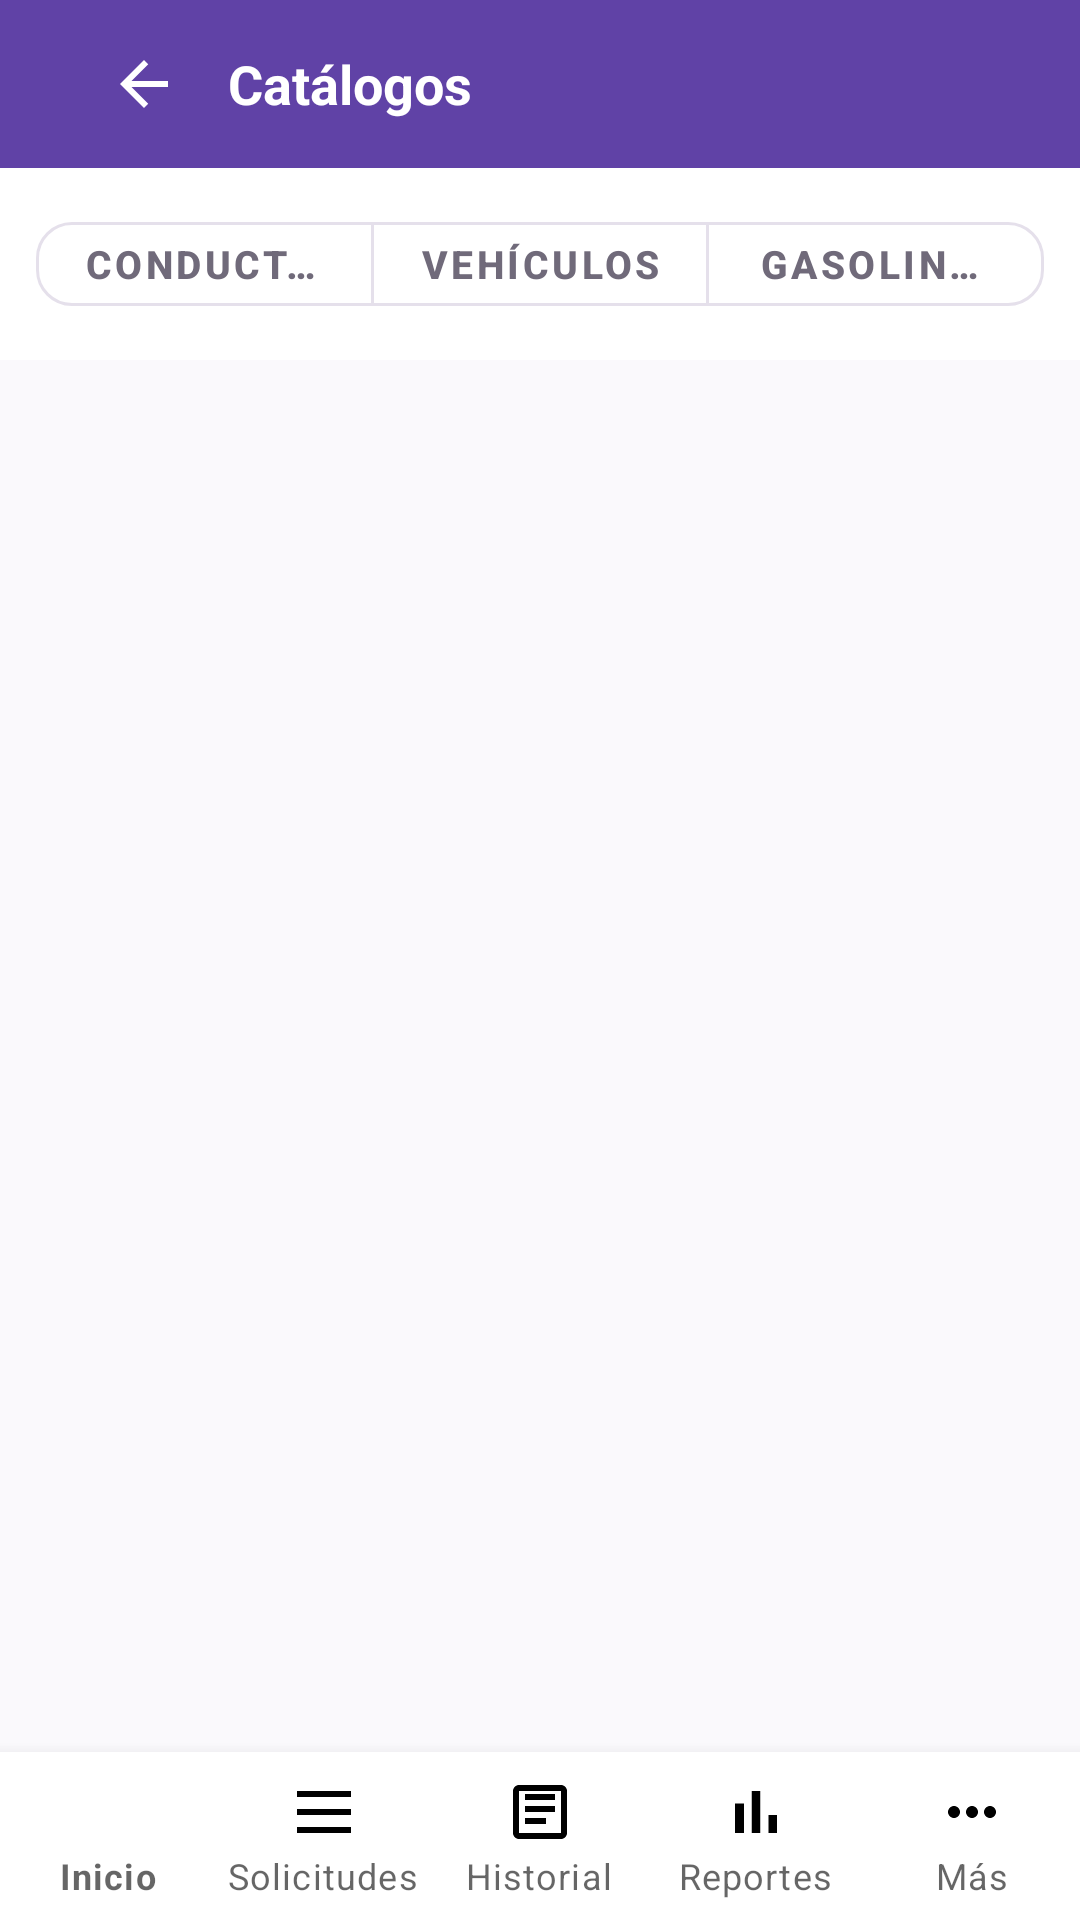

Locate icon controls on the screen. Image size 1080 × 1920, boxes as (x1,y1,x2,y2).
Volver: (120,60,168,108)
